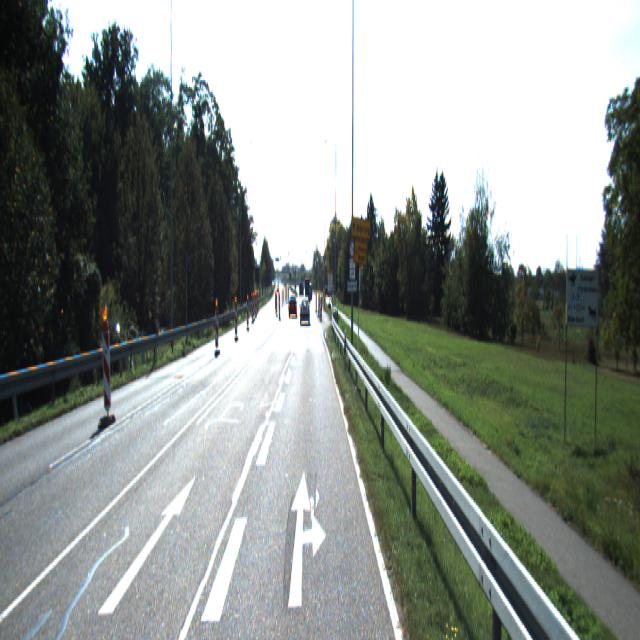Car: (300, 297, 310, 323), (288, 295, 297, 319)
